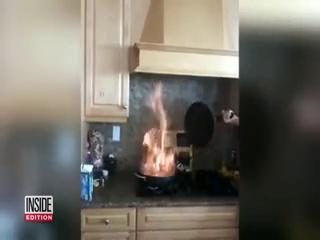Fire: (138, 93, 186, 177)
